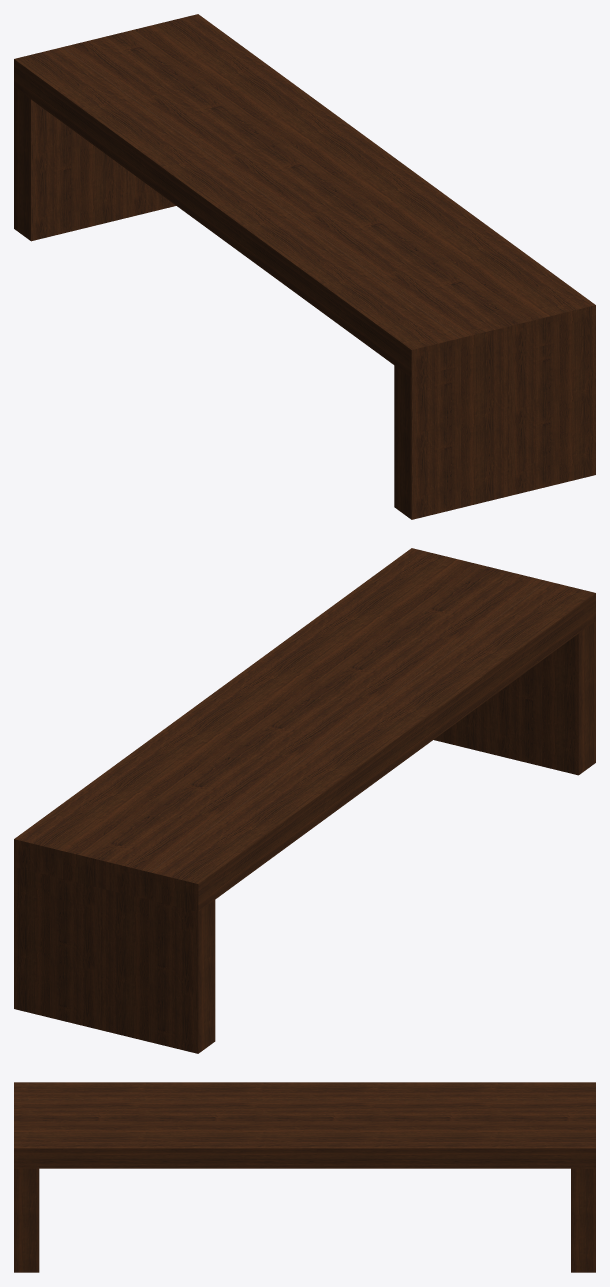
Rendered from bench.glb.
3 views of the same model, one above another, from view 1: azimuth 30°, elevation 25°; view 2: azimuth 150°, elevation 25°; view 3: azimuth 270°, elevation 25° (orthographic). The views are drawn at different scales.
Visible parts, largest first — view 1: Bench:RoadKillOut; view 2: Bench:RoadKillOut; view 3: Bench:RoadKillOut.
Boxes of the visible parts, box(x1,y1,x2,y2) form: Bench:RoadKillOut: box(14, 14, 595, 519); Bench:RoadKillOut: box(14, 548, 595, 1053); Bench:RoadKillOut: box(14, 1082, 595, 1272).
Size of the model in its own units: 1 by 0.8809 by 3.74.
1 material, 1 textured.
